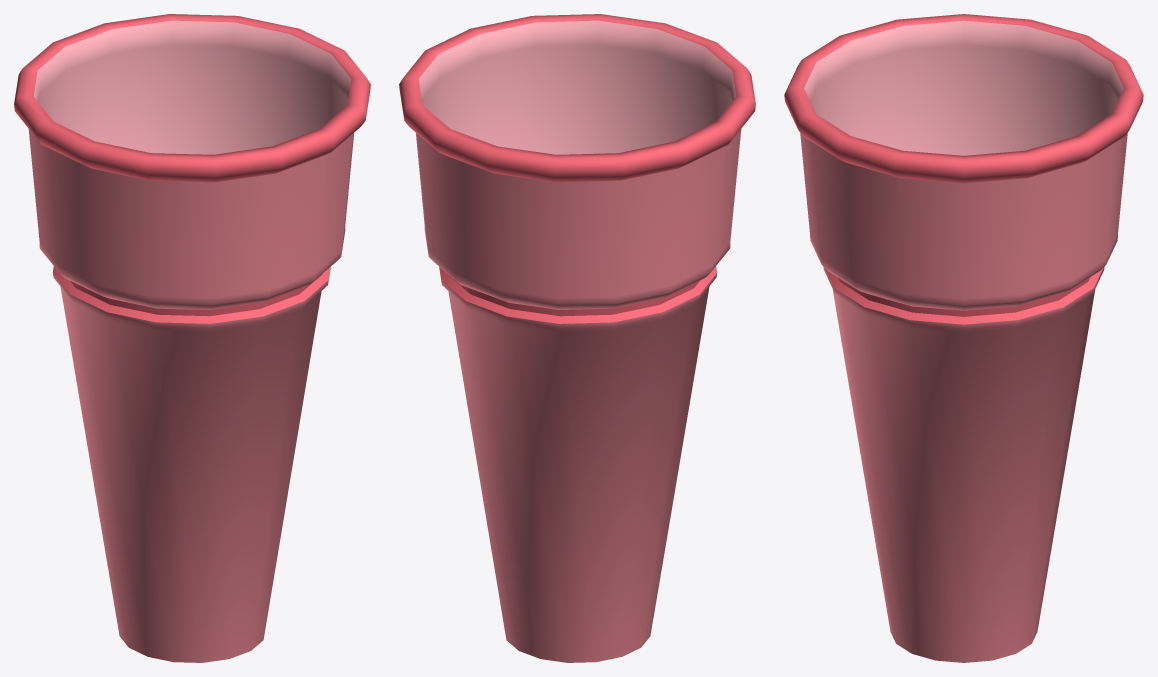
Rendered from Cone B Pink.fbx.
The picture shows the model from 3 angles, left to right: view 1: azimuth 30°, elevation 25°; view 2: azimuth 150°, elevation 25°; view 3: azimuth 270°, elevation 25°; orthographic projection.
Visible parts, largest first — view 1: Cone B Pink; view 2: Cone B Pink; view 3: Cone B Pink.
Boxes of the visible parts, <box> form: Cone B Pink: <box>14,14,370,662</box>; Cone B Pink: <box>399,14,755,662</box>; Cone B Pink: <box>784,14,1143,662</box>.
Bounding box in the file's own units: 0.4323 × 0.722 × 0.4323.
